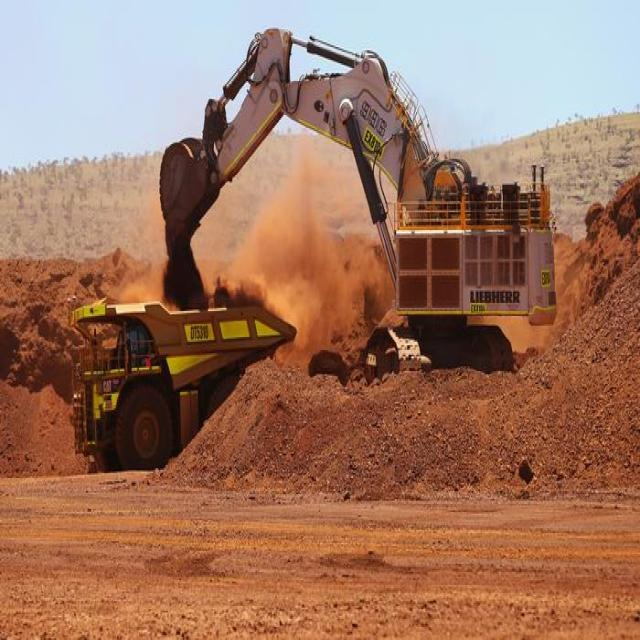dump_truck: (62, 282, 294, 484)
excavator: (129, 6, 554, 402)
